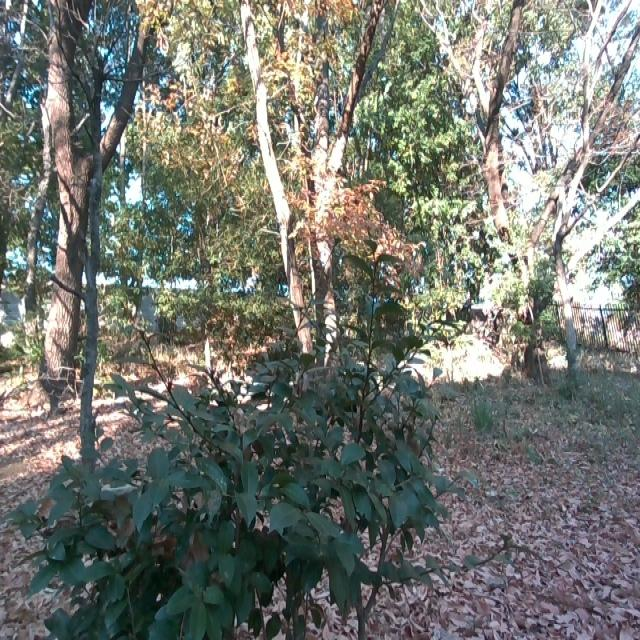bush: (62, 281, 434, 640)
tree: (422, 1, 624, 379), (232, 0, 386, 355), (35, 0, 148, 384)
